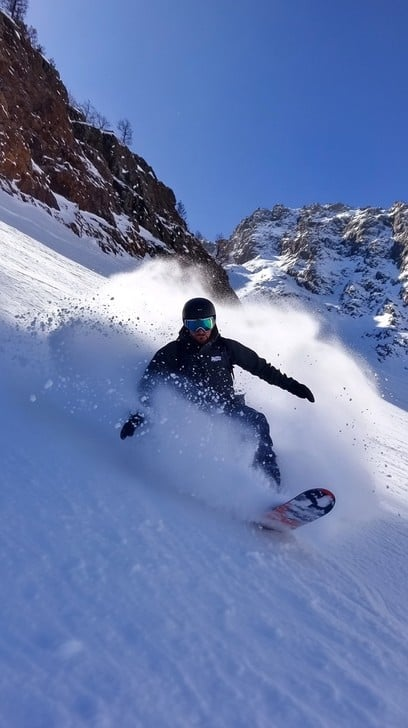snowboarder: (118, 296, 334, 534)
